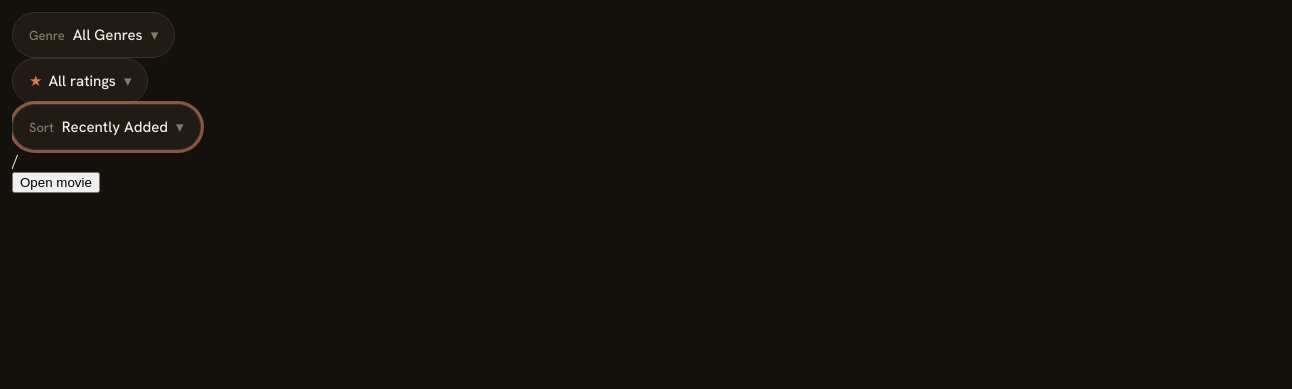
Test: LibraryFilters — choosing an order › writes the chosen order into the URL
This screenshot has width=1292, height=389.
Click the button "Sort Recently Added ▾": (106, 127) [12,104,200,150]
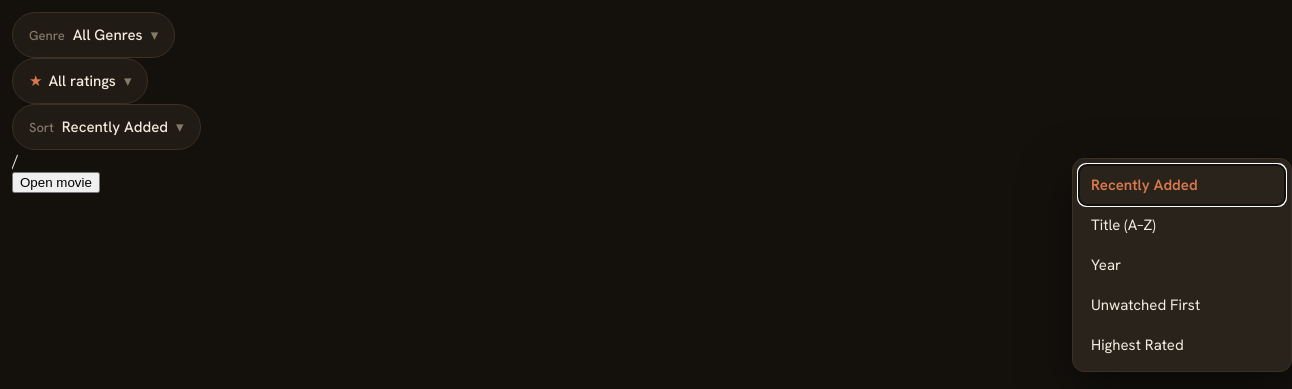
Click the menu item "Title (A–Z)": (1182, 225) [1079,205,1285,245]
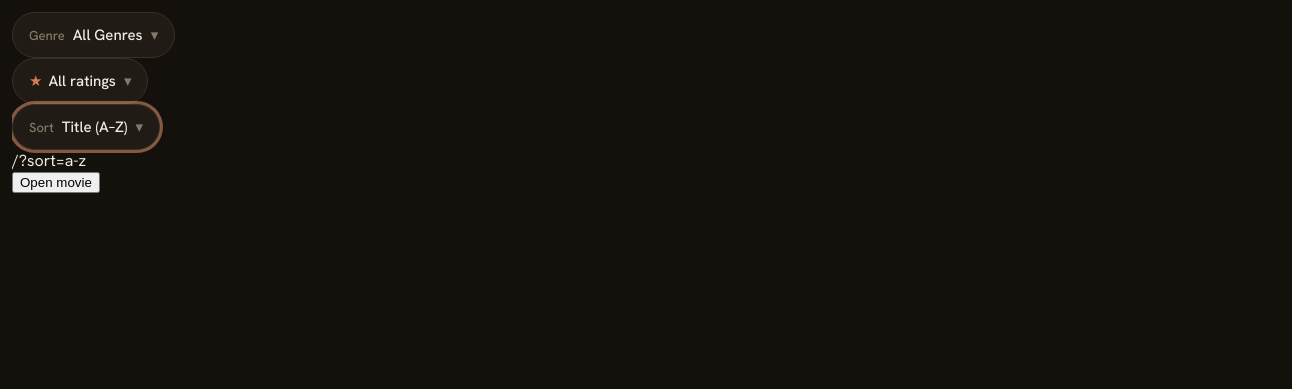
Check: the text with test id "url" reads "/?sort=a-z", box [12,150,86,171]
